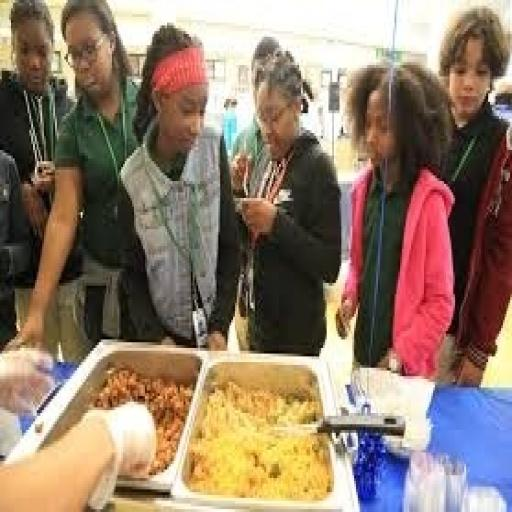eating: (116, 22, 242, 350), (230, 48, 344, 357)
